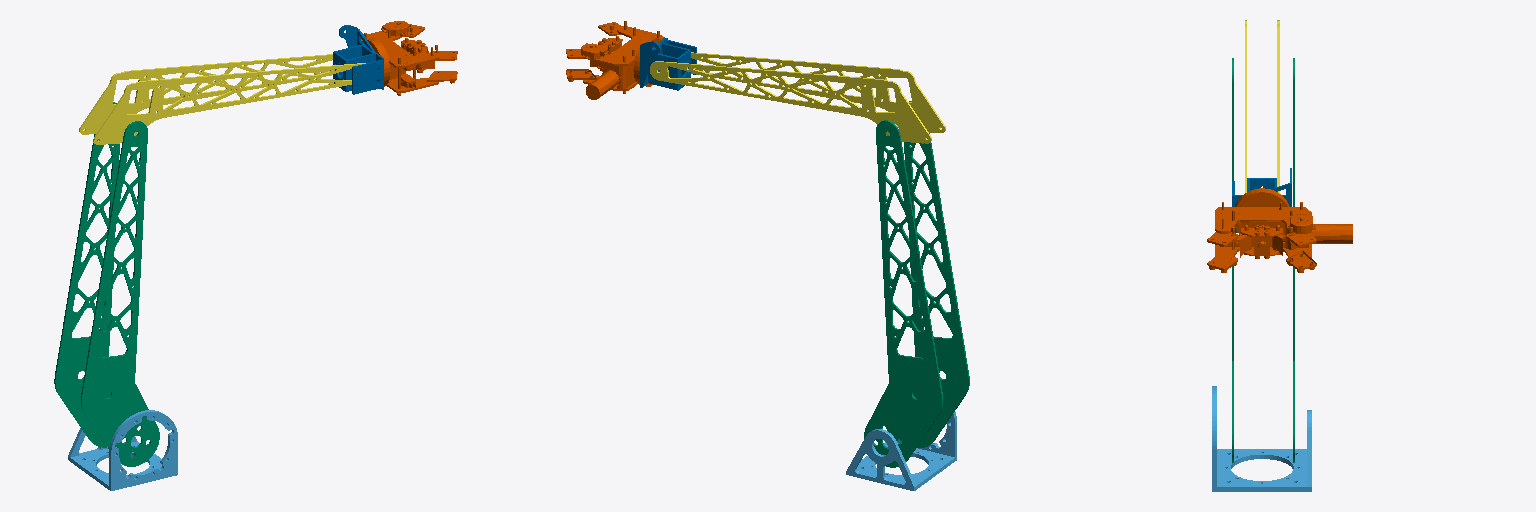
The robot description file, URDF, robot "mr_arm":
<?xml version="1.0" ?>

<robot name="mr_arm">
  <!-- Base link is the center of the robot's bottom plate -->
  <link name="link_0">
    <visual>
      <origin xyz="0 0 0" rpy="0 0 0" />
      <geometry>
        <mesh filename="meshes/Link0.stl" />
      </geometry>
    </visual>
    <collision>
      <origin xyz="0 0 0" rpy="0 0 0" />
      <geometry>
        <mesh filename="meshes/collision_Link0.stl" />
      </geometry>
    </collision>
  </link>

  <joint name="joint_1" type="revolute">
    <origin xyz="0 0 0" rpy="0 0 0" />
    <parent link="link_0" />
    <child link="link_1" />
    <axis xyz="0 0 1" />
    <limit effort="10.0" velocity="2.61799" lower="-3.141592" upper="3.141592" />
    <dynamics damping="0.5"/>
  </joint>

  <!-- Joint 1 -->
  <link name="link_1">
    <visual>
      <origin xyz="0 0 0" rpy="0 0 0" />
      <geometry>
        <mesh filename="meshes/Link1.stl" />
      </geometry>
    </visual>
    <collision>
      <origin xyz="0 0 0" rpy="0 0 0" />
      <geometry>
        <mesh filename="meshes/collision_Link1.stl" />
      </geometry>
    </collision>
  </link>

  <joint name="joint_2" type="revolute">
    <origin xyz="0 0 0.0575" rpy="0 0 0" />
    <parent link="link_1" />
    <child link="link_2" />
    <axis xyz="0 1 0" />
    <limit effort="10.0" velocity="2.61799" lower="-1.570796327" upper="1.570796327" />
    <dynamics damping="0.5"/>
  </joint>


  <link name="link_2">
    <visual>
      <origin xyz="0 0 0" rpy="0 0 0" />
      <geometry>
        <mesh filename="meshes/Link2.stl" />
      </geometry>
    </visual>
    <collision>
      <origin xyz="0 0 0" rpy="0 0 0" />
      <geometry>
        <mesh filename="meshes/collision_Link2.stl" />
      </geometry>
    </collision>
  </link>

  <joint name="joint_3" type="revolute">
    <origin xyz="0 0 0.5" rpy="0 0 0" />
    <parent link="link_2" />
    <child link="link_3" />
    <axis xyz="0 1 0" />
    <limit effort="10.0" velocity="2.61799" lower="-1.570796327" upper="1.570796327" />
    <dynamics damping="0.5"/>
  </joint>


  <link name="link_3">
    <visual>
      <origin xyz="0 0 0" rpy="0 0 0" />
      <geometry>
        <mesh filename="meshes/Link3.stl" />
      </geometry>
    </visual>
    <collision>
      <origin xyz="0 0 0" rpy="0 0 0" />
      <geometry>
        <mesh filename="meshes/collision_Link3.stl" />
      </geometry>
    </collision>
  </link>

  <joint name="joint_4" type="revolute">
    <origin xyz="0.4 0 0" rpy="0 0 0" />
    <parent link="link_3" />
    <child link="link_4" />
    <axis xyz="0 1 0" />
    <limit effort="10.0" velocity="2.61799" lower="-1.570796327" upper="1.570796327" />
    <dynamics damping="0.5"/>
  </joint>


  <link name="link_4">
    <visual>
      <origin xyz="0 0 0" rpy="0 0 0" />
      <geometry>
        <mesh filename="meshes/Link4.stl" />
      </geometry>
    </visual>
    <collision>
      <origin xyz="0 0 0" rpy="0 0 0" />
      <geometry>
        <mesh filename="meshes/collision_Link4.stl" />
      </geometry>
    </collision>
  </link>

  <joint name="joint_5" type="revolute">
    <origin xyz="0.034 0 0" rpy="0 0 0" />
    <parent link="link_4" />
    <child link="link_5" />
    <axis xyz="1 0 0" />
    <limit effort="10.0" velocity="2.61799" lower="-3.141592" upper="3.141592" />
    <dynamics damping="0.5"/>
  </joint>


  <link name="link_5">
    <visual>
      <origin xyz="0 0 0" rpy="0 0 0" />
      <geometry>
        <mesh filename="meshes/Link5.stl" />
      </geometry>
    </visual>
    <collision>
      <origin xyz="0 0 0" rpy="0 0 0" />
      <geometry>
        <mesh filename="meshes/collision_Link5.stl" />
      </geometry>
    </collision>
  </link>


</robot>

--- Render facts (derived) ---
3 views of the same robot in one strip: view 1: azimuth 30°, elevation 25°; view 2: azimuth 150°, elevation 25°; view 3: azimuth 270°, elevation 25° (orthographic).
Model mr_arm with 6 links and 5 joints (5 revolute), rooted at link_0, posed all joints at 0.
Links seen in each view (by area): view 1: link_2, link_3, link_1, link_5, link_4; view 2: link_2, link_3, link_5, link_1, link_4; view 3: link_5, link_1, link_2, link_3, link_4.
Boxes of the visible links, left/top/right/bottom form: link_2: left=54, top=102, right=159, bottom=466; link_3: left=79, top=54, right=365, bottom=144; link_1: left=68, top=410, right=177, bottom=490; link_5: left=361, top=21, right=457, bottom=95; link_4: left=333, top=25, right=383, bottom=94; link_2: left=864, top=101, right=969, bottom=467; link_3: left=650, top=52, right=945, bottom=143; link_5: left=566, top=21, right=664, bottom=99; link_1: left=846, top=412, right=956, bottom=490; link_4: left=640, top=38, right=696, bottom=90; link_5: left=1207, top=188, right=1352, bottom=272; link_1: left=1212, top=386, right=1311, bottom=491; link_2: left=1232, top=58, right=1294, bottom=462; link_3: left=1245, top=20, right=1279, bottom=193; link_4: left=1232, top=168, right=1291, bottom=232.
Size in the robot's own frame: 0.6344 by 0.1841 by 0.6321 metres.
5 mesh visuals loaded from 6 distinct referenced files (5 binary STL); not drawn: 1 (reference not matched to a file when rendering).